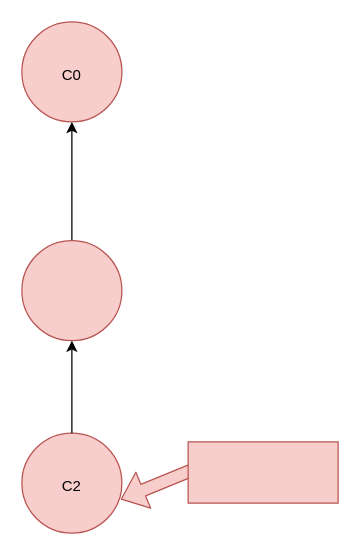
Some shapes in this 360 by 555 pixel diagram are drawn without their labels. The centre of each missing label's shape, as x and y in pixels:
"C1" goes at pixel 71 290.
"main*" goes at pixel 262 472.
